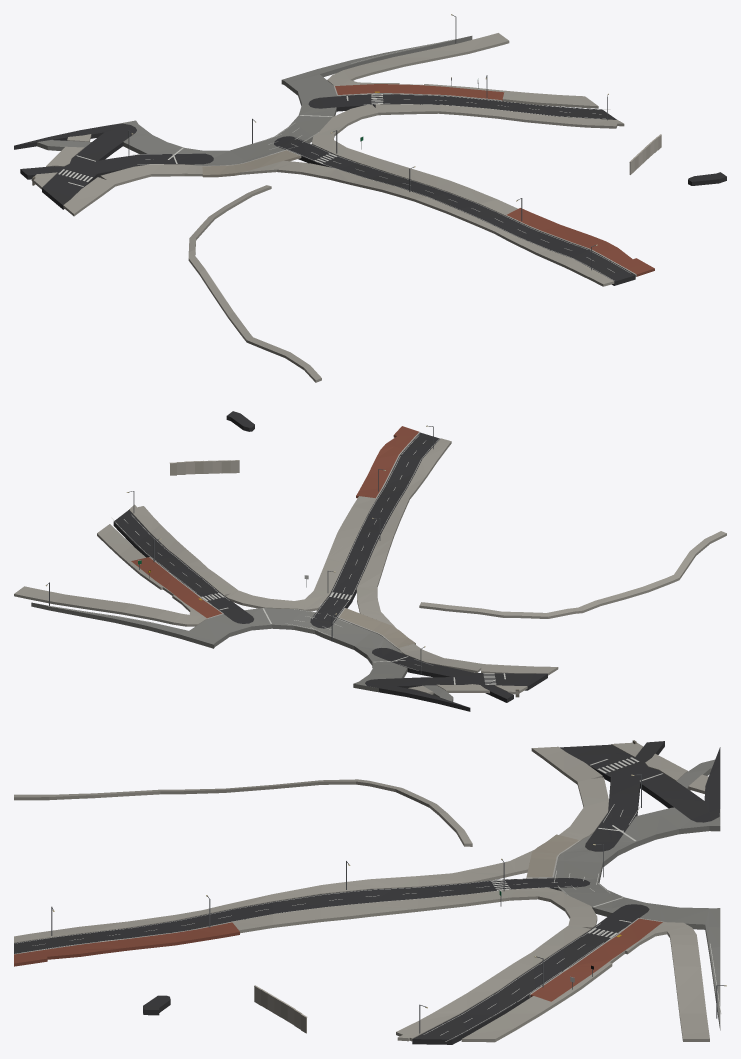
3 views of the same model, one above another, from view 1: azimuth 30°, elevation 25°; view 2: azimuth 150°, elevation 25°; view 3: azimuth 270°, elevation 25° (orthographic). The views are drawn at different scales.
Size of the model in its own units: 148 by 17.25 by 147.
